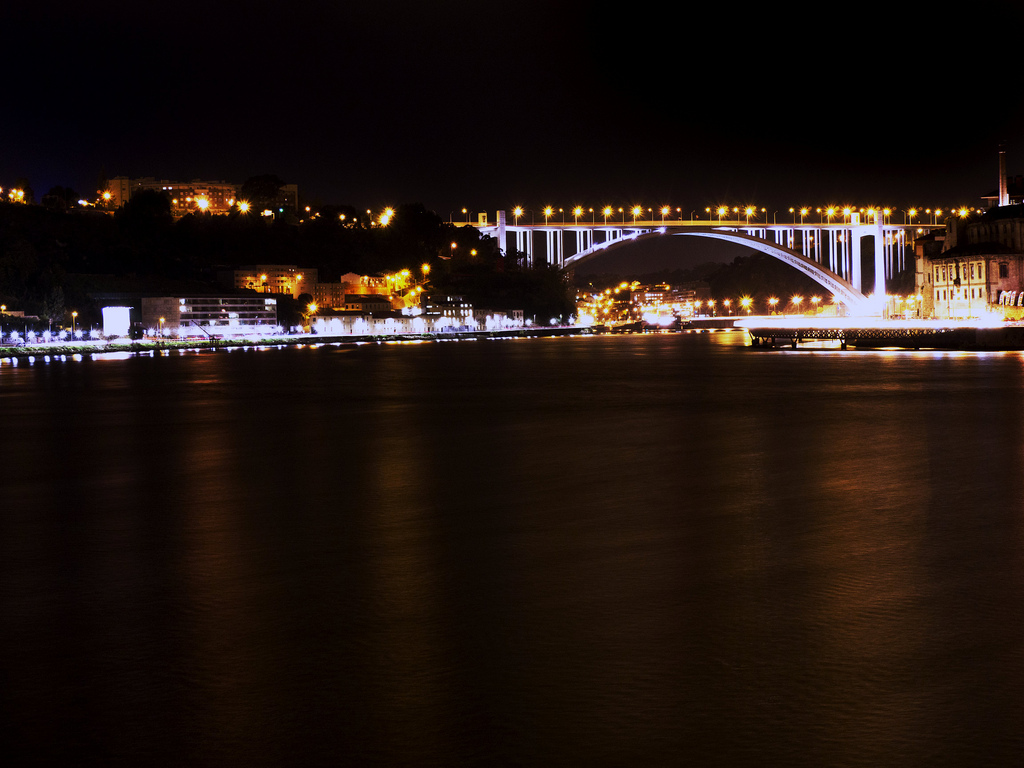arrabida: (451, 206, 952, 318)
